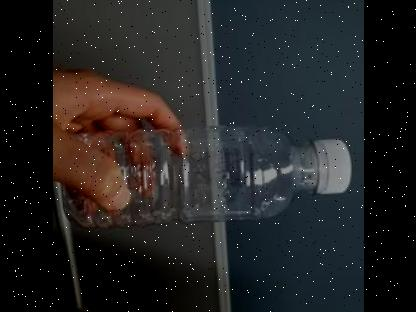Plastic Bottle: (60, 126, 354, 232)
